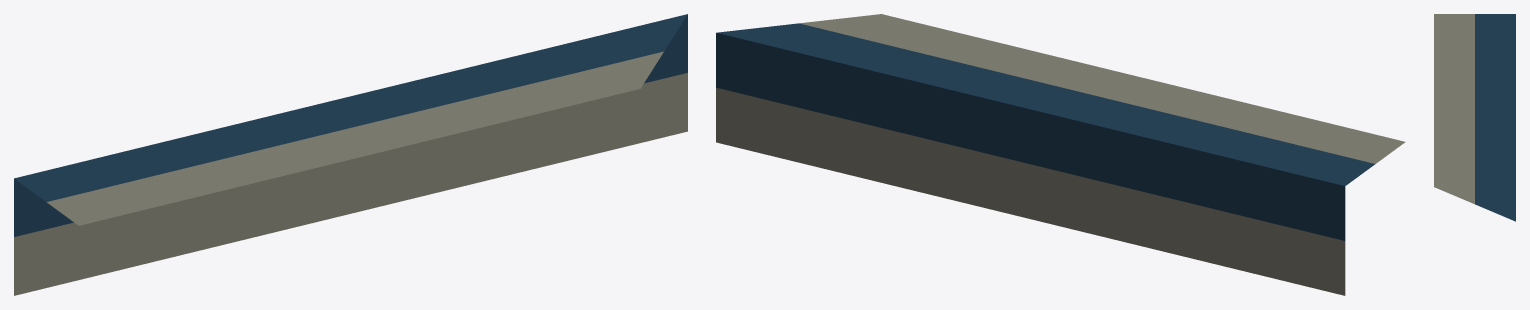
File: swimming pool edge3.FBX
3 views of the same model, side by side, from view 1: azimuth 30°, elevation 25°; view 2: azimuth 150°, elevation 25°; view 3: azimuth 270°, elevation 25° (orthographic). The views are drawn at different scales.
Parts seen in each view (by area): view 1: swimming pool edge3; view 2: swimming pool edge3; view 3: swimming pool edge3.
Boxes of the visible parts, x1,y1,x2,y2 form: swimming pool edge3: [14, 14, 687, 295]; swimming pool edge3: [716, 14, 1405, 295]; swimming pool edge3: [1434, 14, 1515, 221].
Size of the model in its own units: 24 by 4 by 4.
